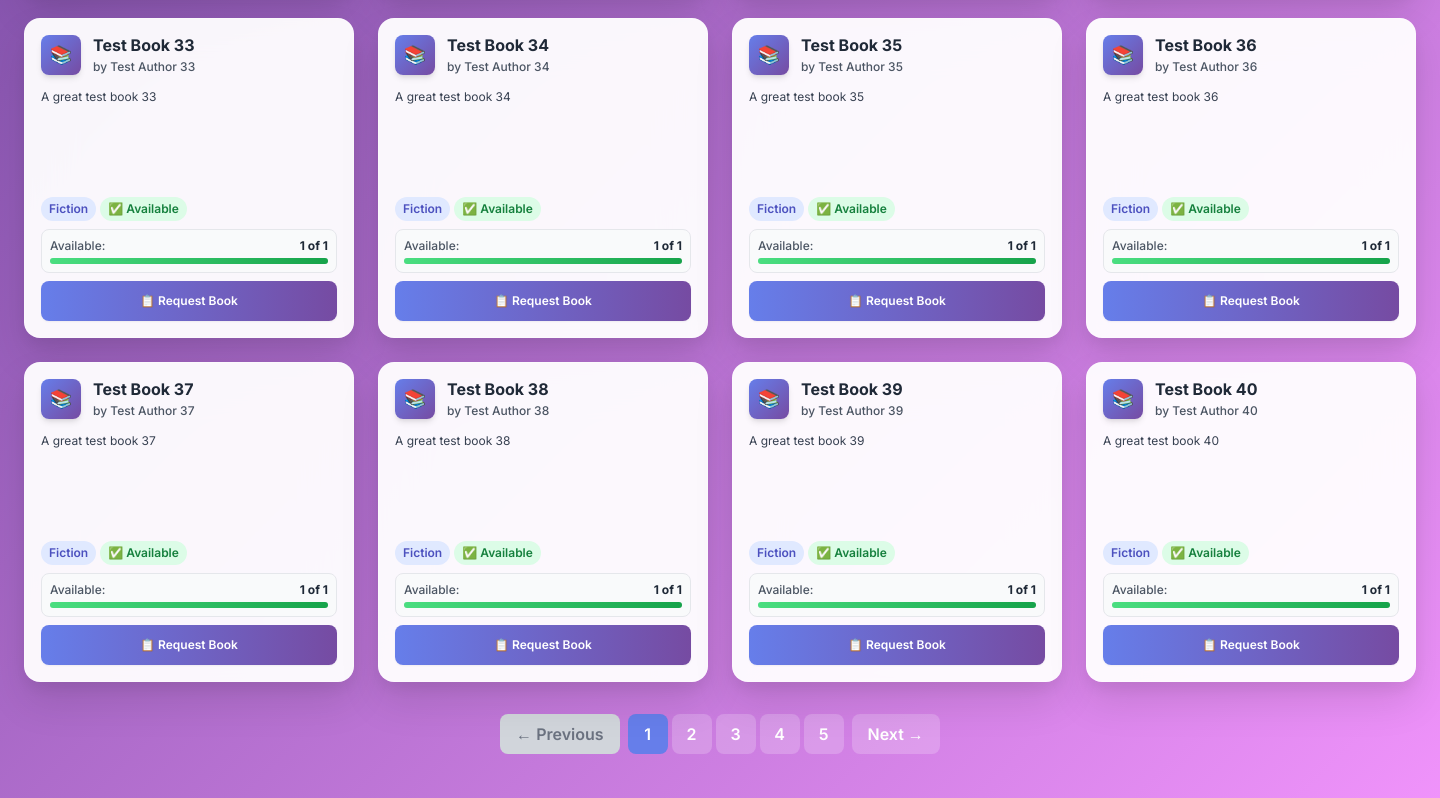
Test: BookCatalog Component › handles page number clicks
(page scrolled)
Expected: the button "1" is shown, [628,714,668,754]
# Click on page 2
Click the button "2": (692, 734) [672,714,712,754]
(page scrolled)
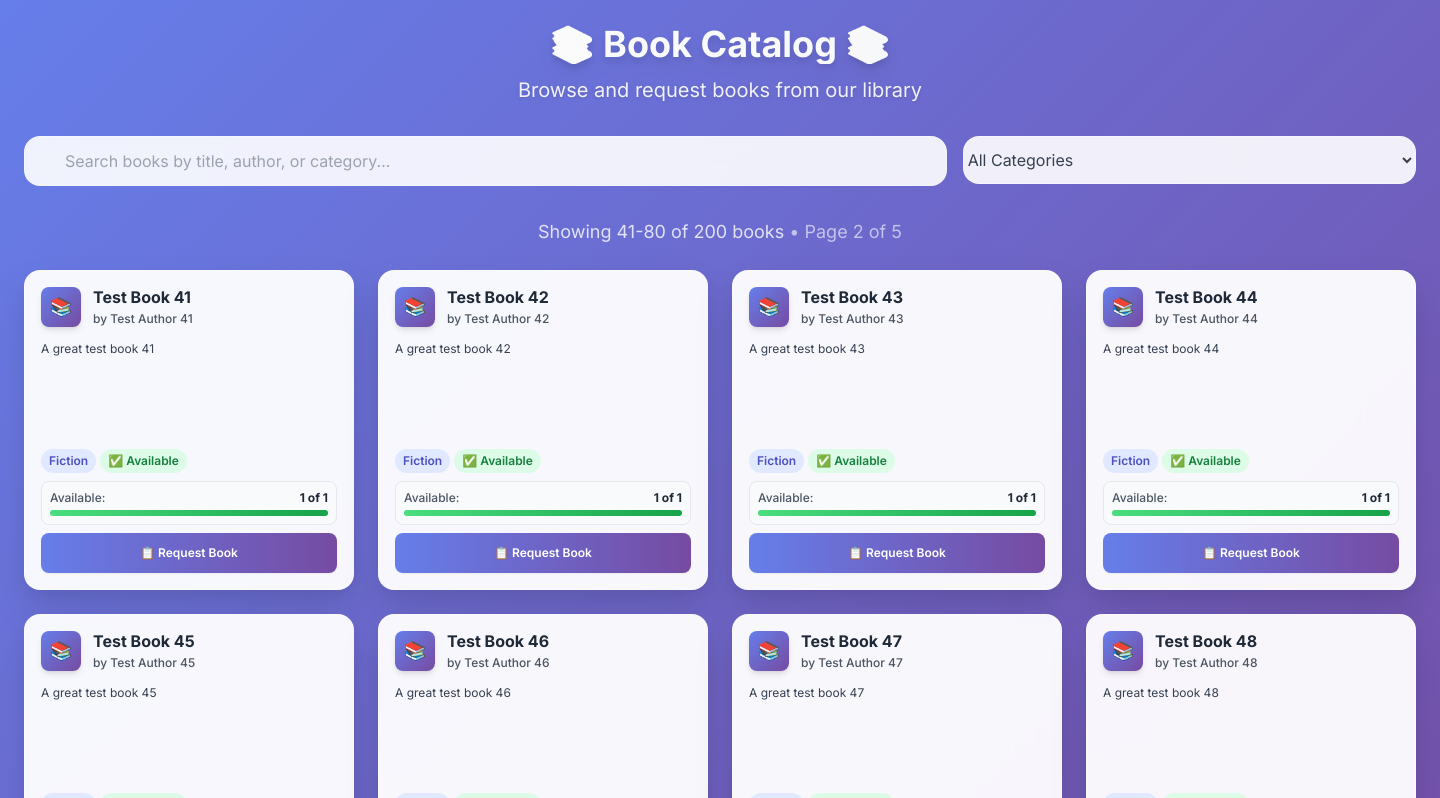
Result: the text "• Page 2 of 5" is shown at [784,221,902,242]
